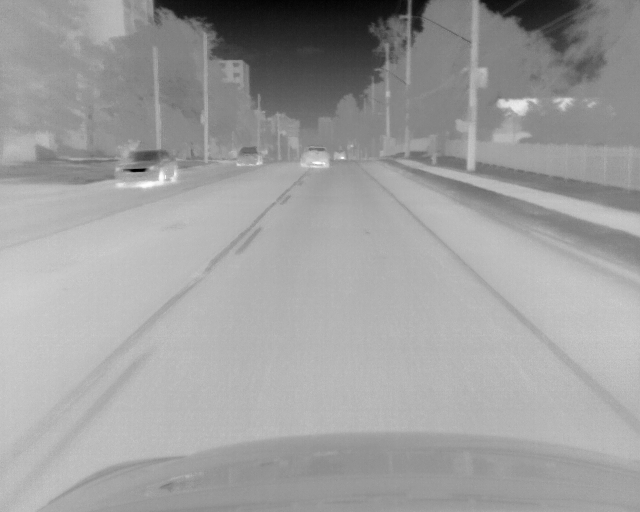car: (113, 148, 180, 186), (299, 146, 329, 171), (234, 146, 263, 167), (332, 148, 346, 161)
